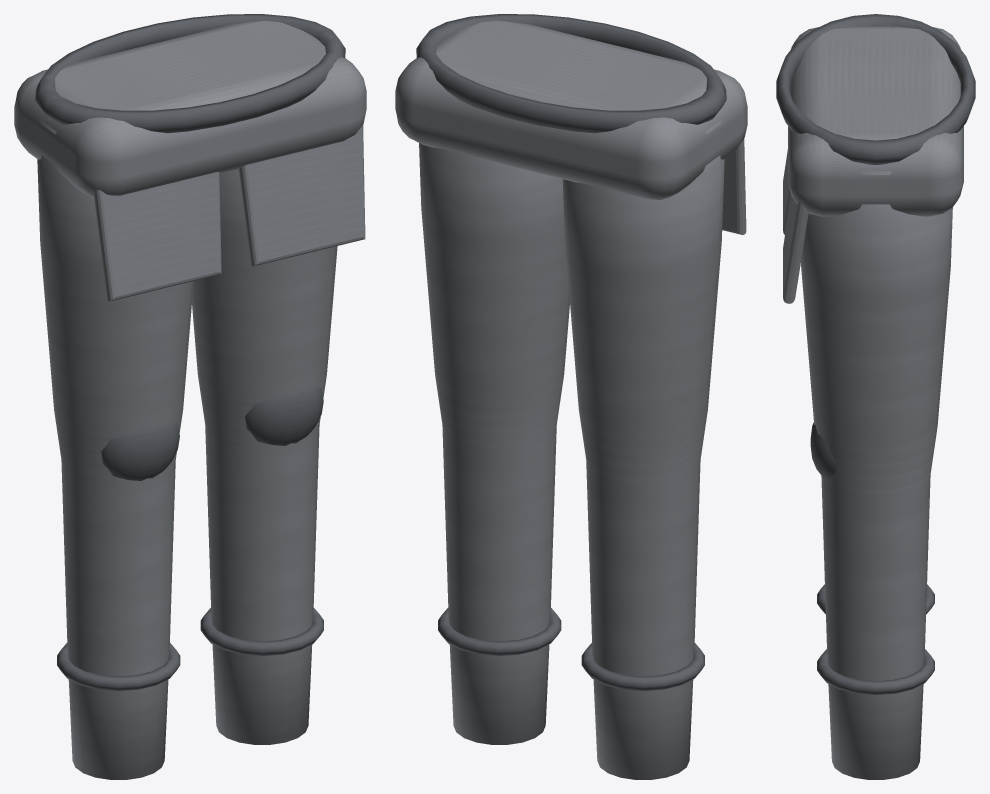
The model's file is platelegs.glb.
3 renders of one model, left to right at view 1: azimuth 30°, elevation 25°; view 2: azimuth 150°, elevation 25°; view 3: azimuth 270°, elevation 25°, orthographic. The views are drawn at different scales.
Parts seen in each view (by area): view 1: platelegs; view 2: platelegs; view 3: platelegs.
Boxes of the visible parts, x1=… form: platelegs: x1=14, y1=14, x2=366, y2=779; platelegs: x1=395, y1=14, x2=747, y2=779; platelegs: x1=776, y1=14, x2=975, y2=779.
Size of the model in its own units: 0.368 by 0.8121 by 0.2265.
Materials: 2 (2 with a texture image).
